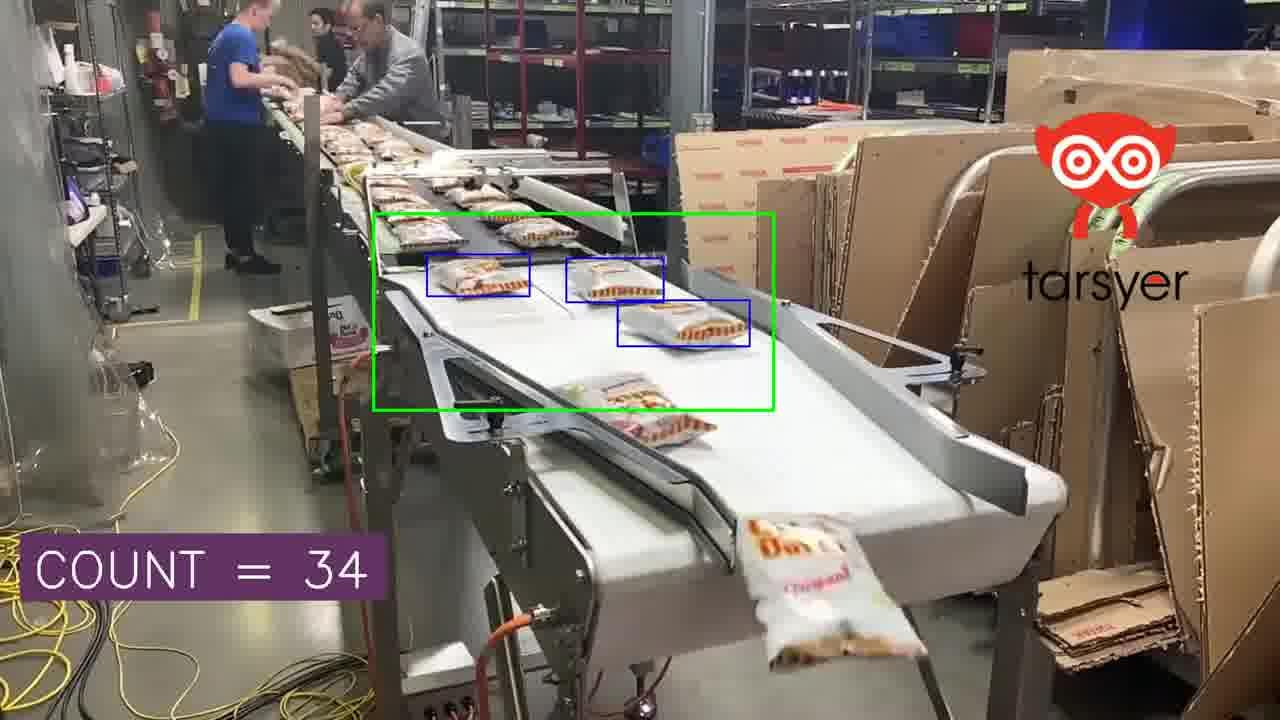Snack: (738, 515, 926, 670), (560, 373, 716, 447), (620, 301, 749, 347), (568, 259, 664, 301), (431, 258, 530, 296), (393, 218, 466, 252), (498, 218, 578, 248), (468, 201, 534, 225), (379, 202, 446, 225), (369, 185, 430, 210), (446, 185, 509, 208), (372, 138, 423, 161), (321, 134, 368, 154), (351, 121, 389, 145), (341, 163, 370, 191), (328, 150, 373, 166), (320, 125, 358, 143), (367, 174, 412, 189), (430, 178, 463, 193)
